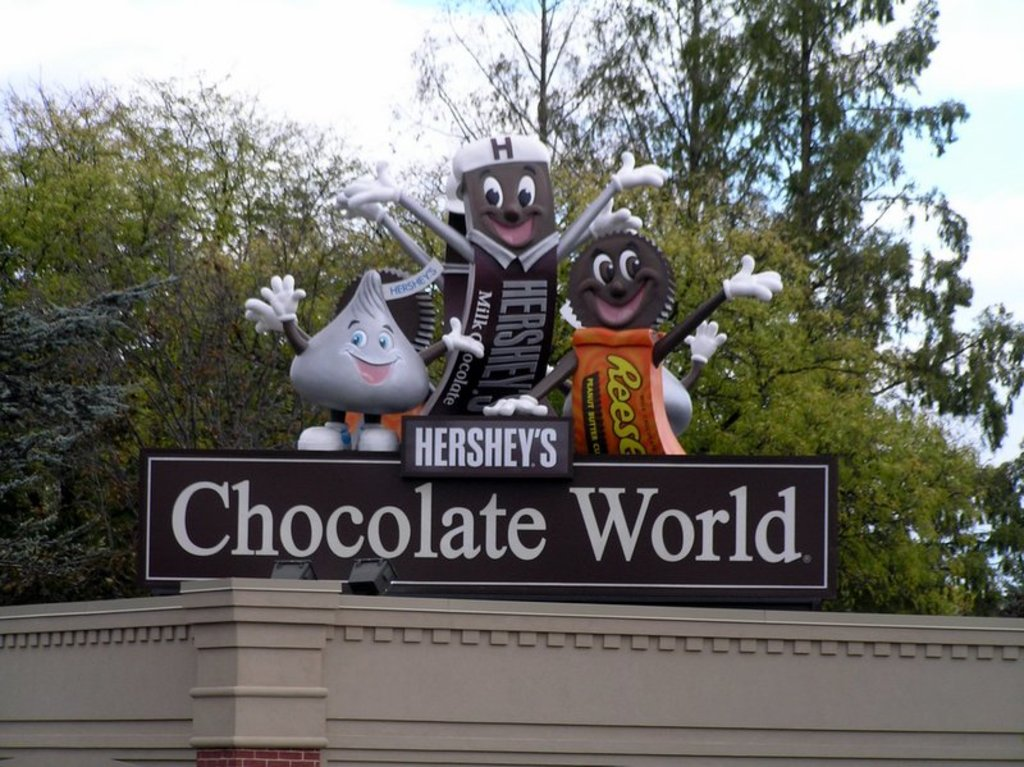Tree: (0, 0, 1022, 618)
